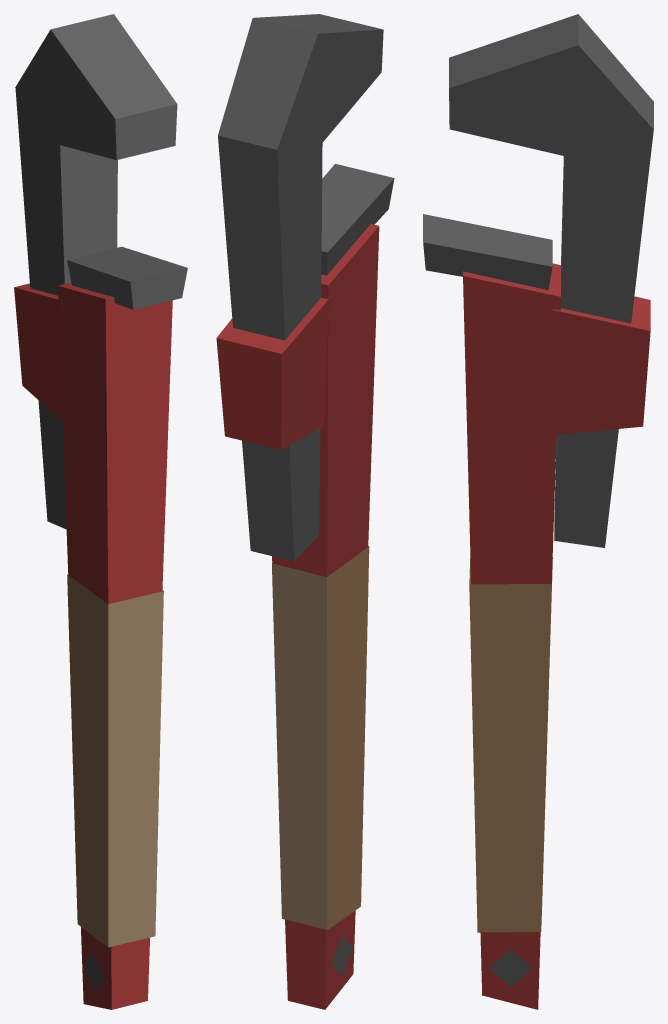
Rendered from Item_PipeWrench00.FBX.
3 renders of one model, left to right at view 1: azimuth 30°, elevation 25°; view 2: azimuth 150°, elevation 25°; view 3: azimuth 270°, elevation 25°, orthographic. The views are drawn at different scales.
Parts seen in each view (by area): view 1: Item_PipeWrench00; view 2: Item_PipeWrench00; view 3: Item_PipeWrench00.
Part boxes in pixels (x1=…): Item_PipeWrench00: x1=14, y1=14, x2=187, y2=1009; Item_PipeWrench00: x1=216, y1=14, x2=394, y2=1009; Item_PipeWrench00: x1=423, y1=14, x2=653, y2=1009.
Size of the model in its own units: 4.46 by 60.58 by 13.03.
